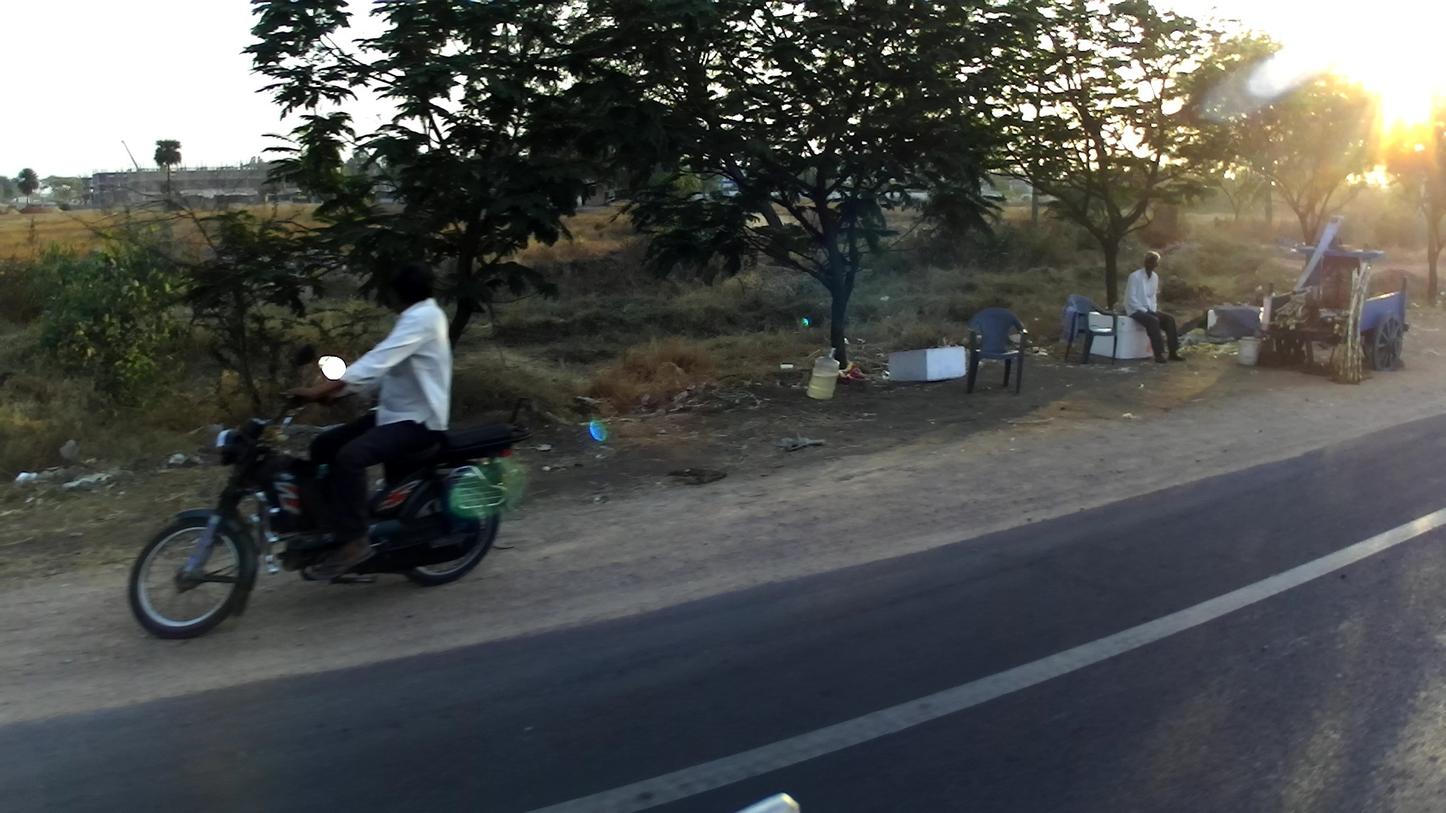motorcycle: (124, 351, 521, 648)
person: (1129, 246, 1191, 367)
rider: (270, 258, 456, 583)
vehicle fallback: (1263, 206, 1414, 378)
